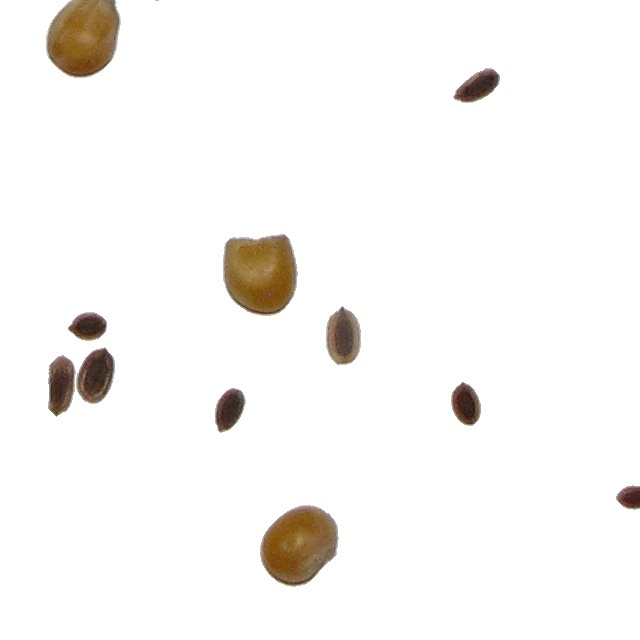buckwheat: (75, 346, 116, 405), (325, 305, 362, 366), (47, 354, 77, 418), (452, 67, 501, 104), (214, 387, 247, 434), (450, 381, 482, 427), (67, 311, 108, 342), (615, 484, 640, 511)
mais: (259, 504, 340, 588), (222, 233, 299, 317)
